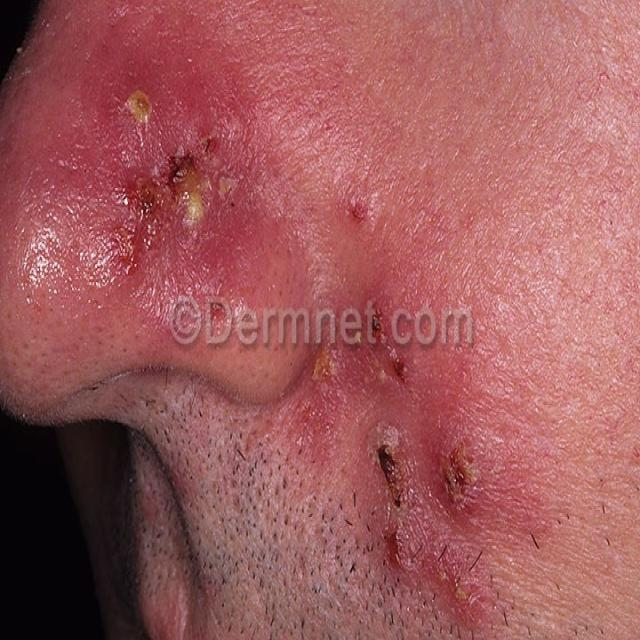Rosacea: (296, 194, 522, 634), (0, 21, 270, 348)
